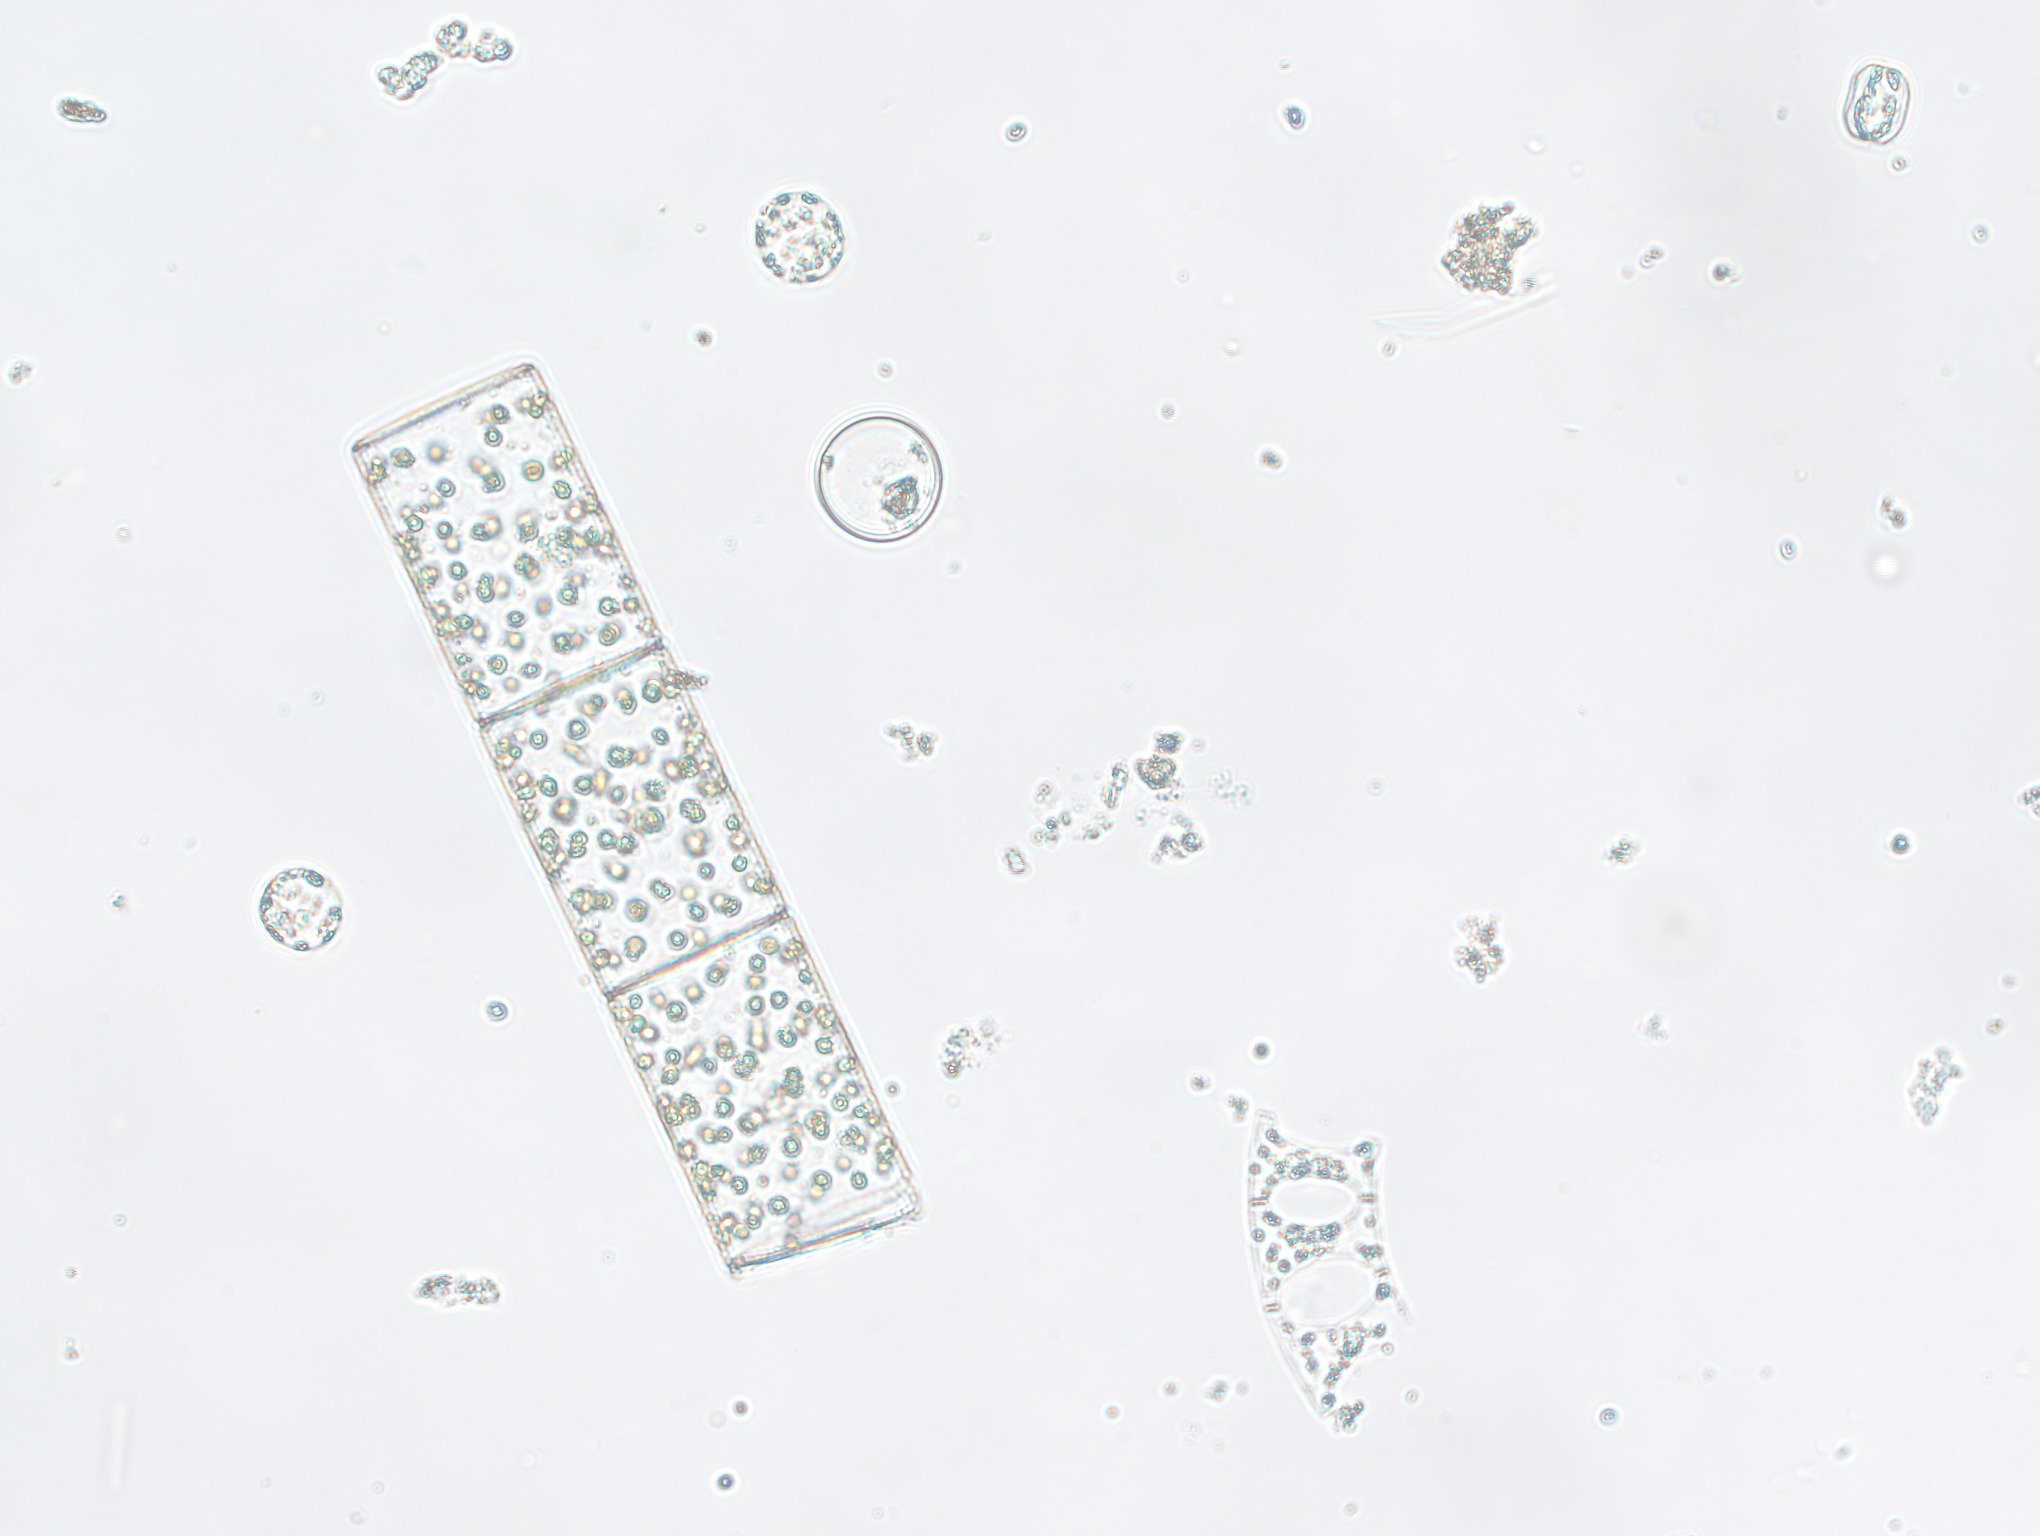eucampia: (1227, 1099, 1451, 1449)
guinardia flaccida: (340, 345, 943, 1284)
